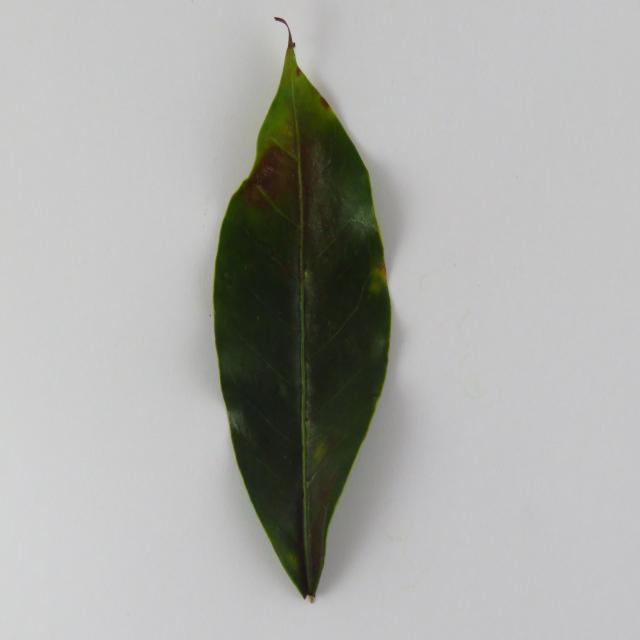DeficienciaNutricional-Fosforo: (214, 27, 391, 600)
